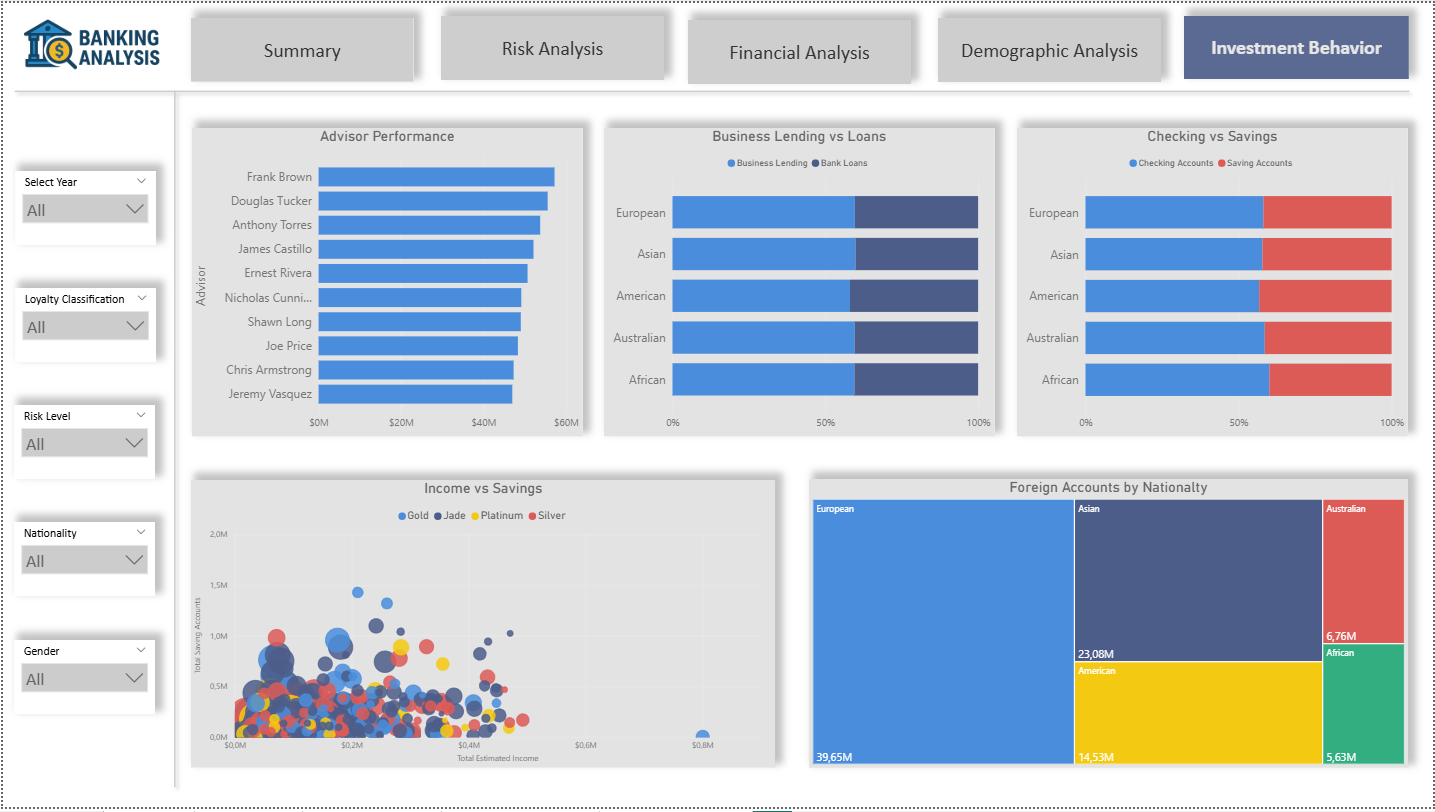

What the dashboard file says about the page in this screenshot:
{"tool":"powerbi","page":{"name":"Investment Behavior","canvas":[1920,1080],"ordinal":4},"visuals":[{"type":"actionButton","title":"Risk_Inactive","box":[587.9,17.8,299.8,86],"z":0},{"type":"shape","title":"Vertical_Line","box":[208,108.4,45.2,953.6],"z":1},{"type":"slicer","title":"Year_Slicer","fields":{"Values":["Dim_Year.Year Joined"]},"box":[16.5,225,189,100],"z":2},{"type":"slicer","title":"Loyalty_Slicer","fields":{"Values":["Dim_Loyalty.Loyalty Classification"]},"box":[15.9,382.6,189.6,100],"z":3},{"type":"slicer","title":"Risk_Slicer","fields":{"Values":["Dim_Risk.Risk Level"]},"box":[15.4,540.2,189.6,100],"z":4},{"type":"slicer","title":"Nationalty_Slicer","fields":{"Values":["Dim_Nationality.Nationality"]},"box":[14.8,697.8,189.6,100],"z":5},{"type":"slicer","title":"Gender_Slicer","fields":{"Values":["Dim_Gender.GenderId"]},"box":[14.3,855.4,189.6,100],"z":6},{"type":"actionButton","title":"Financial_ Inactive","box":[920.2,23,299.8,86],"z":8},{"type":"actionButton","title":"Demographic_Inactive","box":[1255.3,20.3,299.8,86],"z":9},{"type":"shape","title":"Horizontal_Line 01","box":[7.1,105.7,1891.3,25.3],"z":11},{"type":"image","title":"Banking _Logo","box":[0.5,-2,240.7,125],"z":12},{"type":"actionButton","title":"Summary_Inactive","box":[252.4,20.3,299.5,85.6],"z":14},{"type":"treemap","title":"Foreign Accounts by Nationalty","fields":{"Group":["Dim_Customer.Nationality"],"Values":["MeasuresTable.Total Foreign Currency Account"]},"box":[1082.2,640,804.9,388.2],"z":18},{"type":"hundredPercentStackedBarChart","title":"Checking vs Savings","fields":{"Y":["MeasuresTable.Total Checking Accounts","MeasuresTable.Total Saving Accounts"],"Category":["Dim_Customer.Nationality"]},"box":[1362.7,167.8,525.2,414.3],"z":20},{"type":"actionButton","title":"Investment_Active","box":[1586.4,17.5,302.2,84.6],"z":23},{"type":"scatterChart","title":"Income vs Savings","fields":{"X":["MeasuresTable.Total Estimated Income"],"Y":["MeasuresTable.Total Saving Accounts"],"Size":["MeasuresTable.Savings to Income Ratio"],"Series":["Dim_Loyalty.Loyalty Classification"],"Category":["Banking.Saving Accounts"]},"box":[252,641,785.4,386.1],"z":24},{"type":"clusteredBarChart","title":"Advisor Performance","fields":{"Y":["MeasuresTable.Total Assets"],"Category":["Banking.Banking Contact"]},"box":[253.3,167.9,524.6,413.7],"z":25},{"type":"hundredPercentStackedBarChart","title":"Business Lending vs Loans","fields":{"Y":["MeasuresTable.Total Business Lending","MeasuresTable.Total Bank Loans"],"Category":["Dim_Customer.Nationality"]},"box":[807.9,167.9,524.6,413.7],"z":26}]}

Visuals, with their boxes in screenshot pixels (x1, y1, x2, y2), scaled from the page's 1920x1080 canvas onto the 1435x812 screenshot:
"Risk_Inactive" actionButton: select_region(439, 13, 663, 78)
"Vertical_Line" shape: select_region(155, 82, 189, 798)
"Year_Slicer" slicer: select_region(12, 169, 154, 244)
"Loyalty_Slicer" slicer: select_region(12, 288, 154, 363)
"Risk_Slicer" slicer: select_region(12, 406, 153, 481)
"Nationalty_Slicer" slicer: select_region(11, 525, 153, 600)
"Gender_Slicer" slicer: select_region(11, 643, 152, 718)
"Financial_ Inactive" actionButton: select_region(688, 17, 912, 82)
"Demographic_Inactive" actionButton: select_region(938, 15, 1162, 80)
"Horizontal_Line 01" shape: select_region(5, 79, 1419, 98)
"Banking _Logo" image: select_region(0, 0, 180, 92)
"Summary_Inactive" actionButton: select_region(189, 15, 412, 80)
"Foreign Accounts by Nationalty" treemap: select_region(809, 481, 1410, 773)
"Checking vs Savings" hundredPercentStackedBarChart: select_region(1018, 126, 1411, 438)
"Investment_Active" actionButton: select_region(1186, 13, 1412, 77)
"Income vs Savings" scatterChart: select_region(188, 482, 775, 772)
"Advisor Performance" clusteredBarChart: select_region(189, 126, 581, 437)
"Business Lending vs Loans" hundredPercentStackedBarChart: select_region(604, 126, 996, 437)
